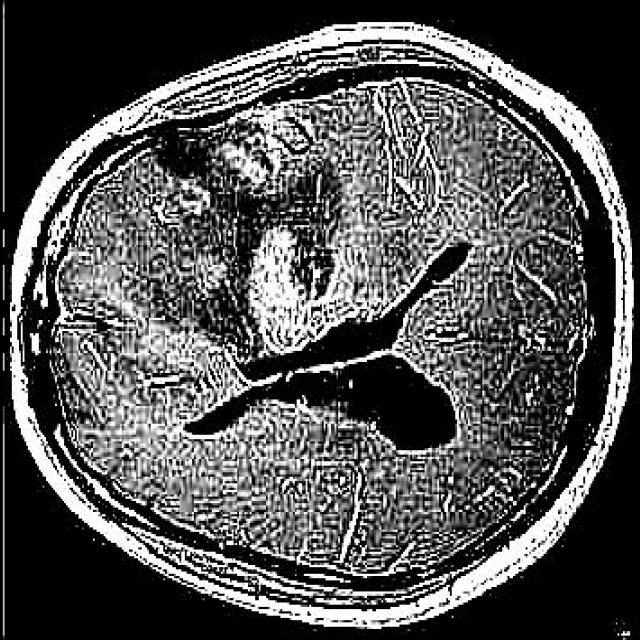tumor: (151, 110, 341, 362)
